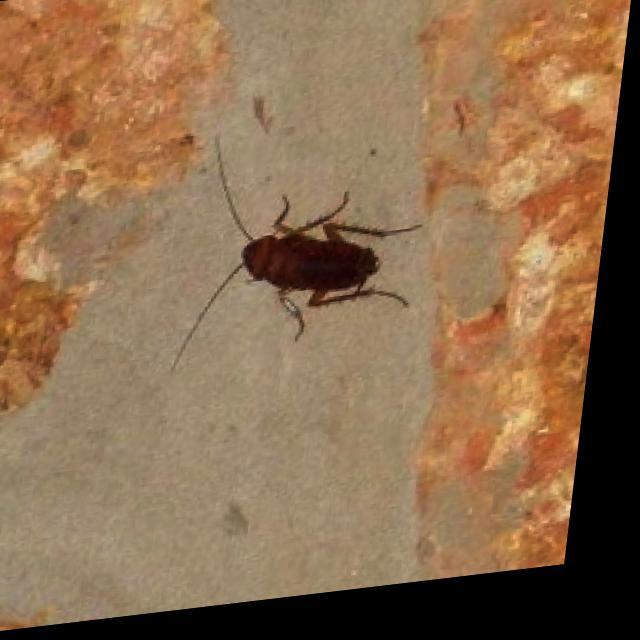cockroach: (166, 131, 425, 376)
